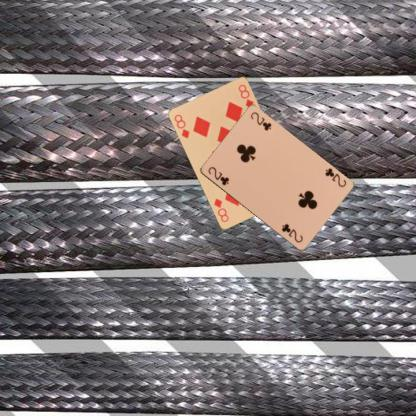2c: (205, 164, 230, 187), (322, 166, 347, 188)
8d: (172, 112, 191, 140)
